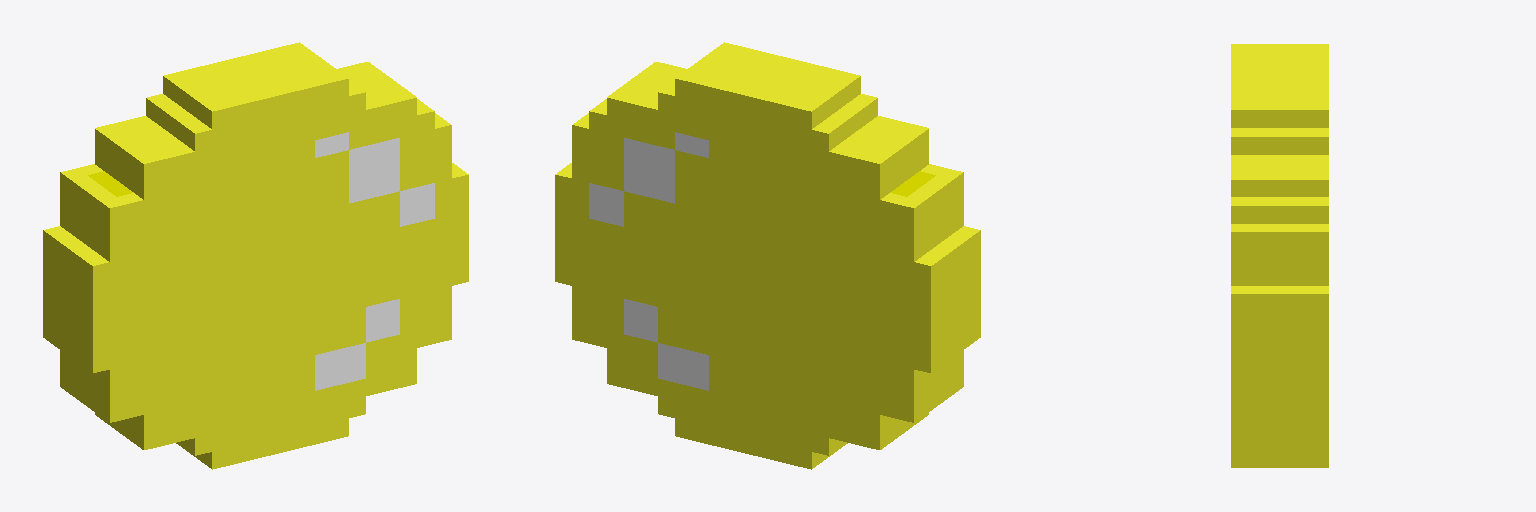
3 renders of one model, left to right at view 1: azimuth 30°, elevation 25°; view 2: azimuth 150°, elevation 25°; view 3: azimuth 270°, elevation 25°, orthographic.
Size of the model in its own units: 22 by 20 by 5.
Materials: 1 (1 with a texture image).